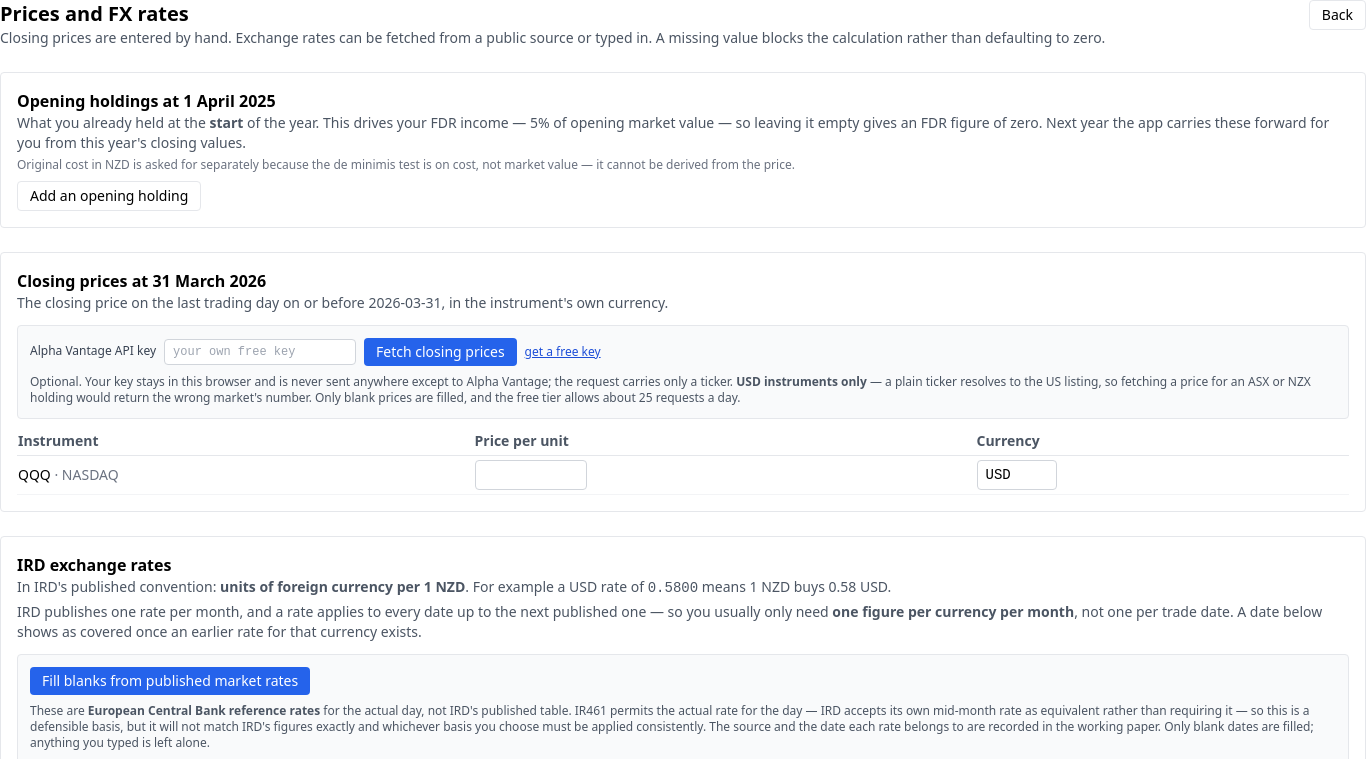
Test case: fetching closing prices › reports the trading day actually used when 31 March was not one
The width and height of the screenshot is (1366, 759).
In the password field labelled "Alpha Vantage API key": (260, 352) left=164, top=339, right=356, bottom=365, type "k"
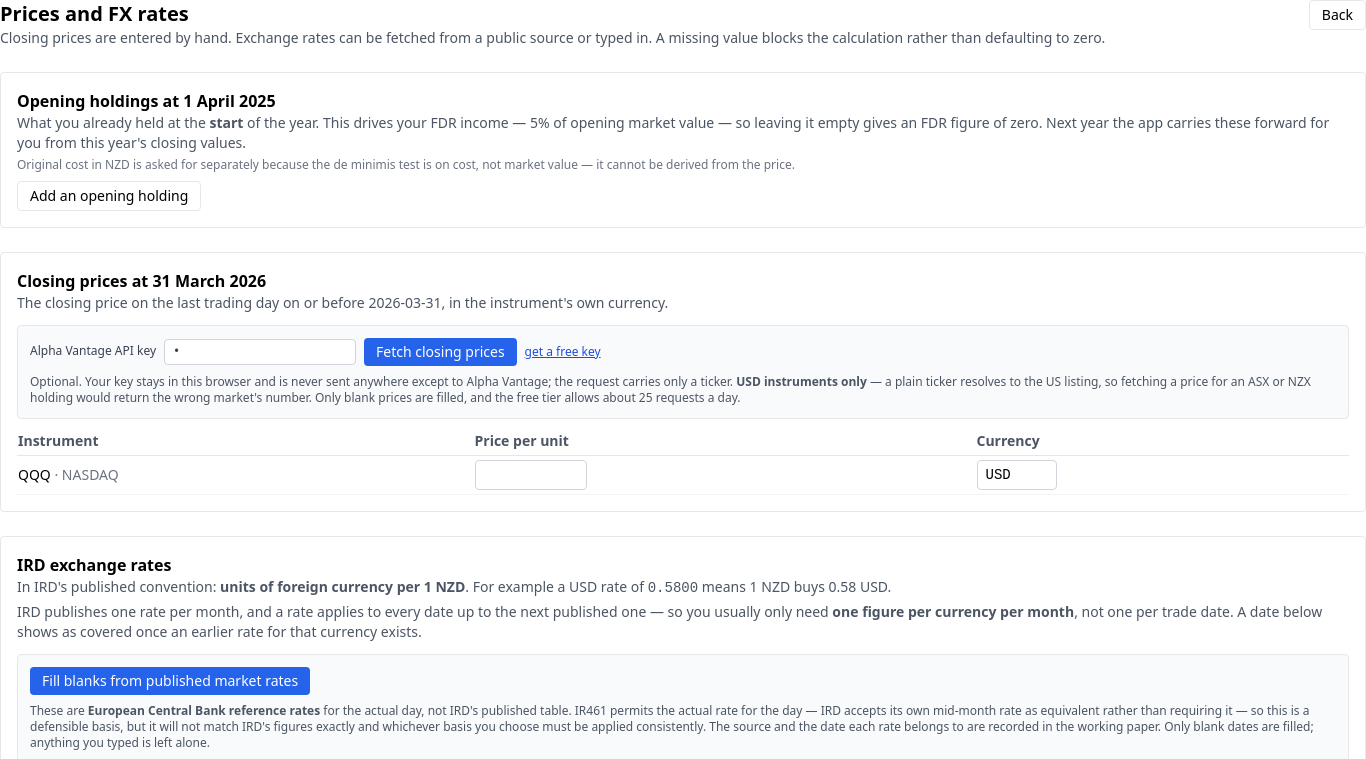
Click the button with test id "fetch-prices": (440, 352) left=364, top=338, right=517, bottom=366
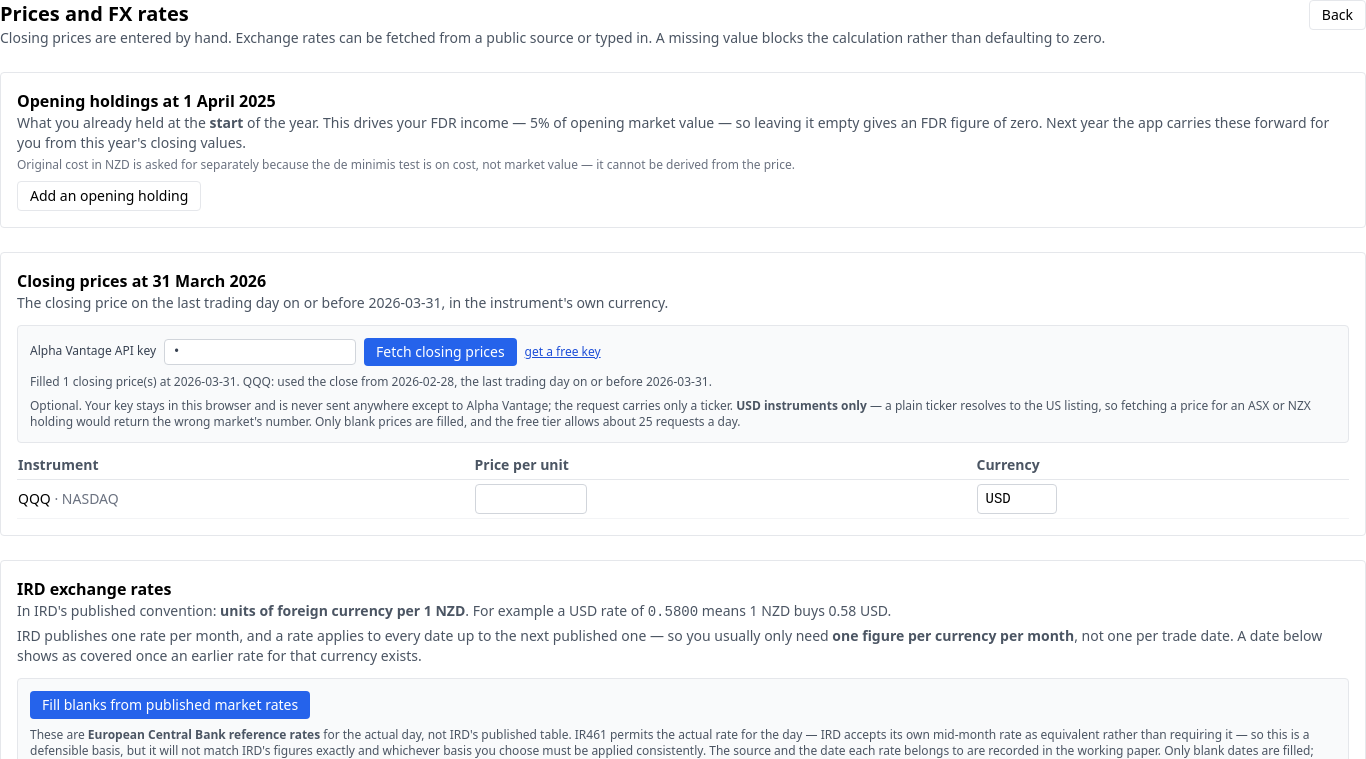
Expected: the text with test id "fetch-prices-message" shows "used the close from 2026-02-28, the last trading day on or before 2026-03-31", left=30, top=373, right=712, bottom=390
